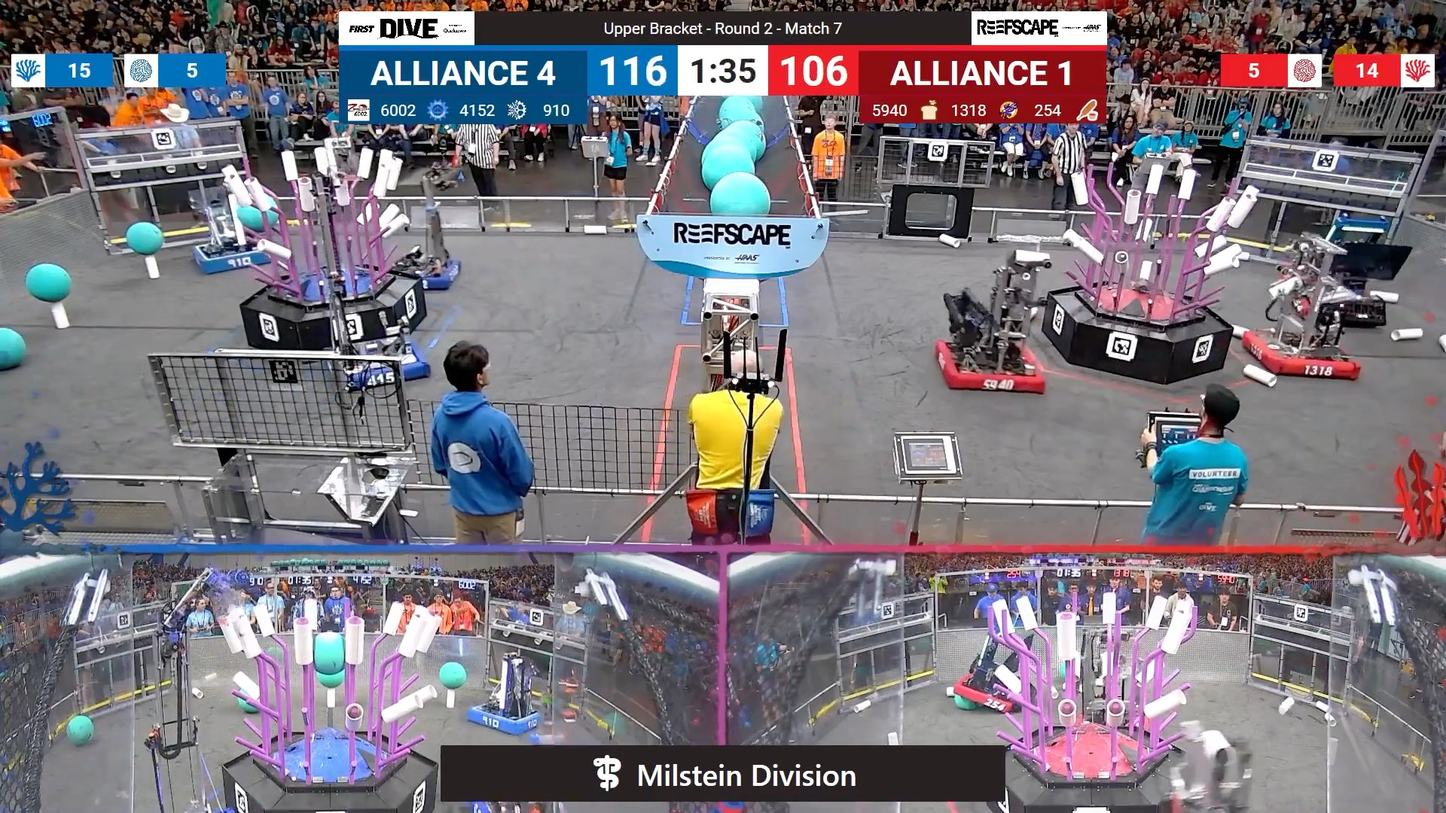bumpers: (929, 336, 1054, 401), (1232, 329, 1366, 386), (326, 337, 437, 390), (949, 671, 1033, 717), (187, 240, 279, 279), (462, 701, 548, 739), (392, 254, 473, 292)
